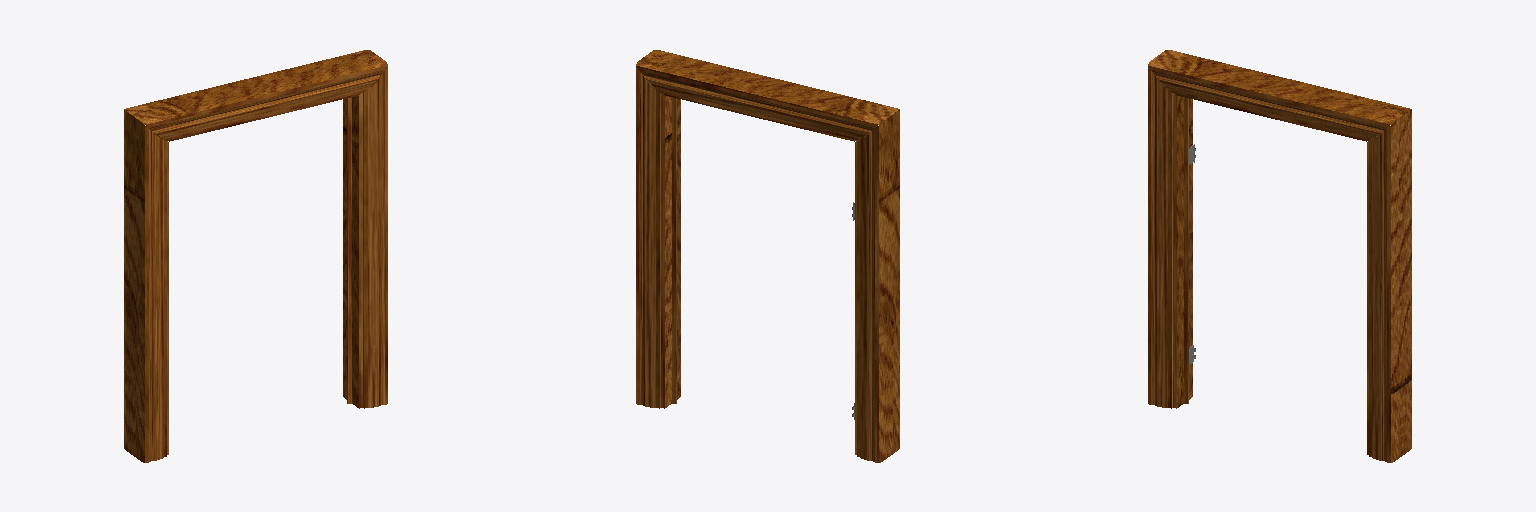
3 views of the same model, side by side, from view 1: azimuth 30°, elevation 25°; view 2: azimuth 150°, elevation 25°; view 3: azimuth 330°, elevation 25° (orthographic).
Visible parts, largest first — view 1: DoorFrame_Cube.002; view 2: DoorFrame_Cube.002; view 3: DoorFrame_Cube.002.
Boxes of the visible parts, box(x1,y1,x2,y2) form: DoorFrame_Cube.002: box(124, 50, 387, 462); DoorFrame_Cube.002: box(636, 50, 899, 462); DoorFrame_Cube.002: box(1148, 50, 1411, 462).
Bounding box in the file's own units: 1.51 × 2 × 0.2307.
Materials: 3 (2 with a texture image).